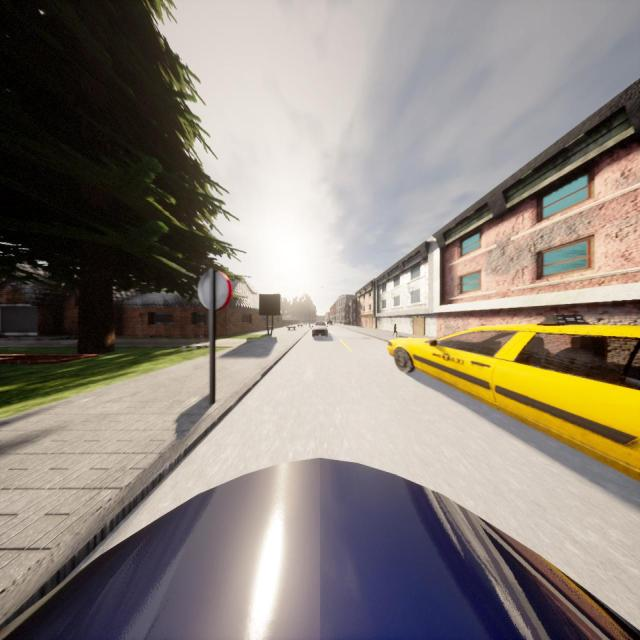Pedestrian: (392, 322, 398, 338)
Traffic_Signs: (196, 268, 232, 312)
Vehicle: (0, 456, 639, 640), (388, 325, 640, 480), (311, 319, 328, 339), (326, 318, 333, 326)
